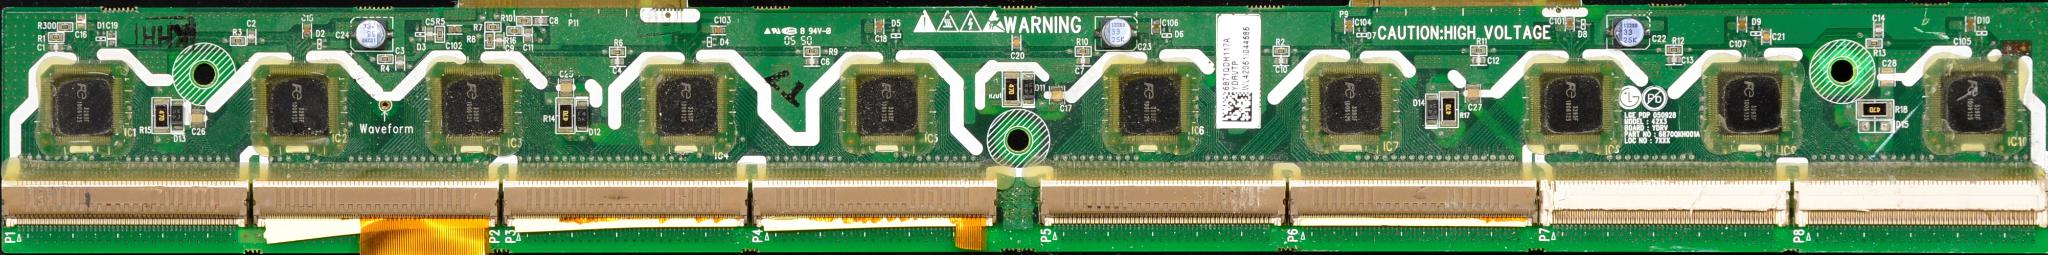Capacitor Jumper: (347, 13, 393, 46), (1095, 10, 1135, 47), (1608, 17, 1647, 51), (1463, 82, 1486, 111), (188, 103, 210, 132), (1048, 80, 1068, 110), (555, 73, 579, 98), (1877, 64, 1899, 88), (1007, 31, 1028, 55), (870, 17, 889, 39), (1560, 14, 1579, 35), (391, 50, 409, 72), (299, 17, 316, 41), (707, 20, 734, 34), (1149, 12, 1165, 37), (798, 55, 831, 67), (42, 42, 71, 55), (244, 24, 263, 43), (530, 12, 555, 26), (1341, 14, 1358, 35), (1963, 14, 1977, 38), (521, 25, 536, 48), (1735, 17, 1753, 35), (1071, 54, 1093, 68), (1869, 17, 1886, 35), (445, 22, 468, 35), (1471, 55, 1493, 67), (423, 22, 436, 42), (1664, 55, 1685, 67), (610, 56, 631, 68), (1761, 27, 1775, 44), (491, 30, 504, 47), (1271, 56, 1289, 68), (77, 14, 85, 27)
IC: (831, 61, 970, 160), (1924, 60, 2039, 158), (1093, 60, 1207, 145), (1522, 56, 1625, 149), (635, 64, 743, 149), (1304, 64, 1403, 156), (421, 64, 515, 149), (256, 69, 346, 145), (1708, 68, 1799, 137), (50, 75, 114, 135)
Resistor Jumper: (1859, 98, 1902, 119), (552, 97, 575, 136), (150, 98, 170, 137), (1661, 41, 1691, 58), (606, 42, 632, 58), (374, 51, 397, 67), (482, 17, 502, 33), (44, 31, 71, 43), (802, 43, 824, 56), (229, 33, 248, 47), (1071, 44, 1092, 56), (515, 14, 536, 26), (434, 22, 445, 43), (482, 31, 496, 48), (505, 25, 525, 37), (1865, 39, 1886, 48), (57, 22, 73, 31)
